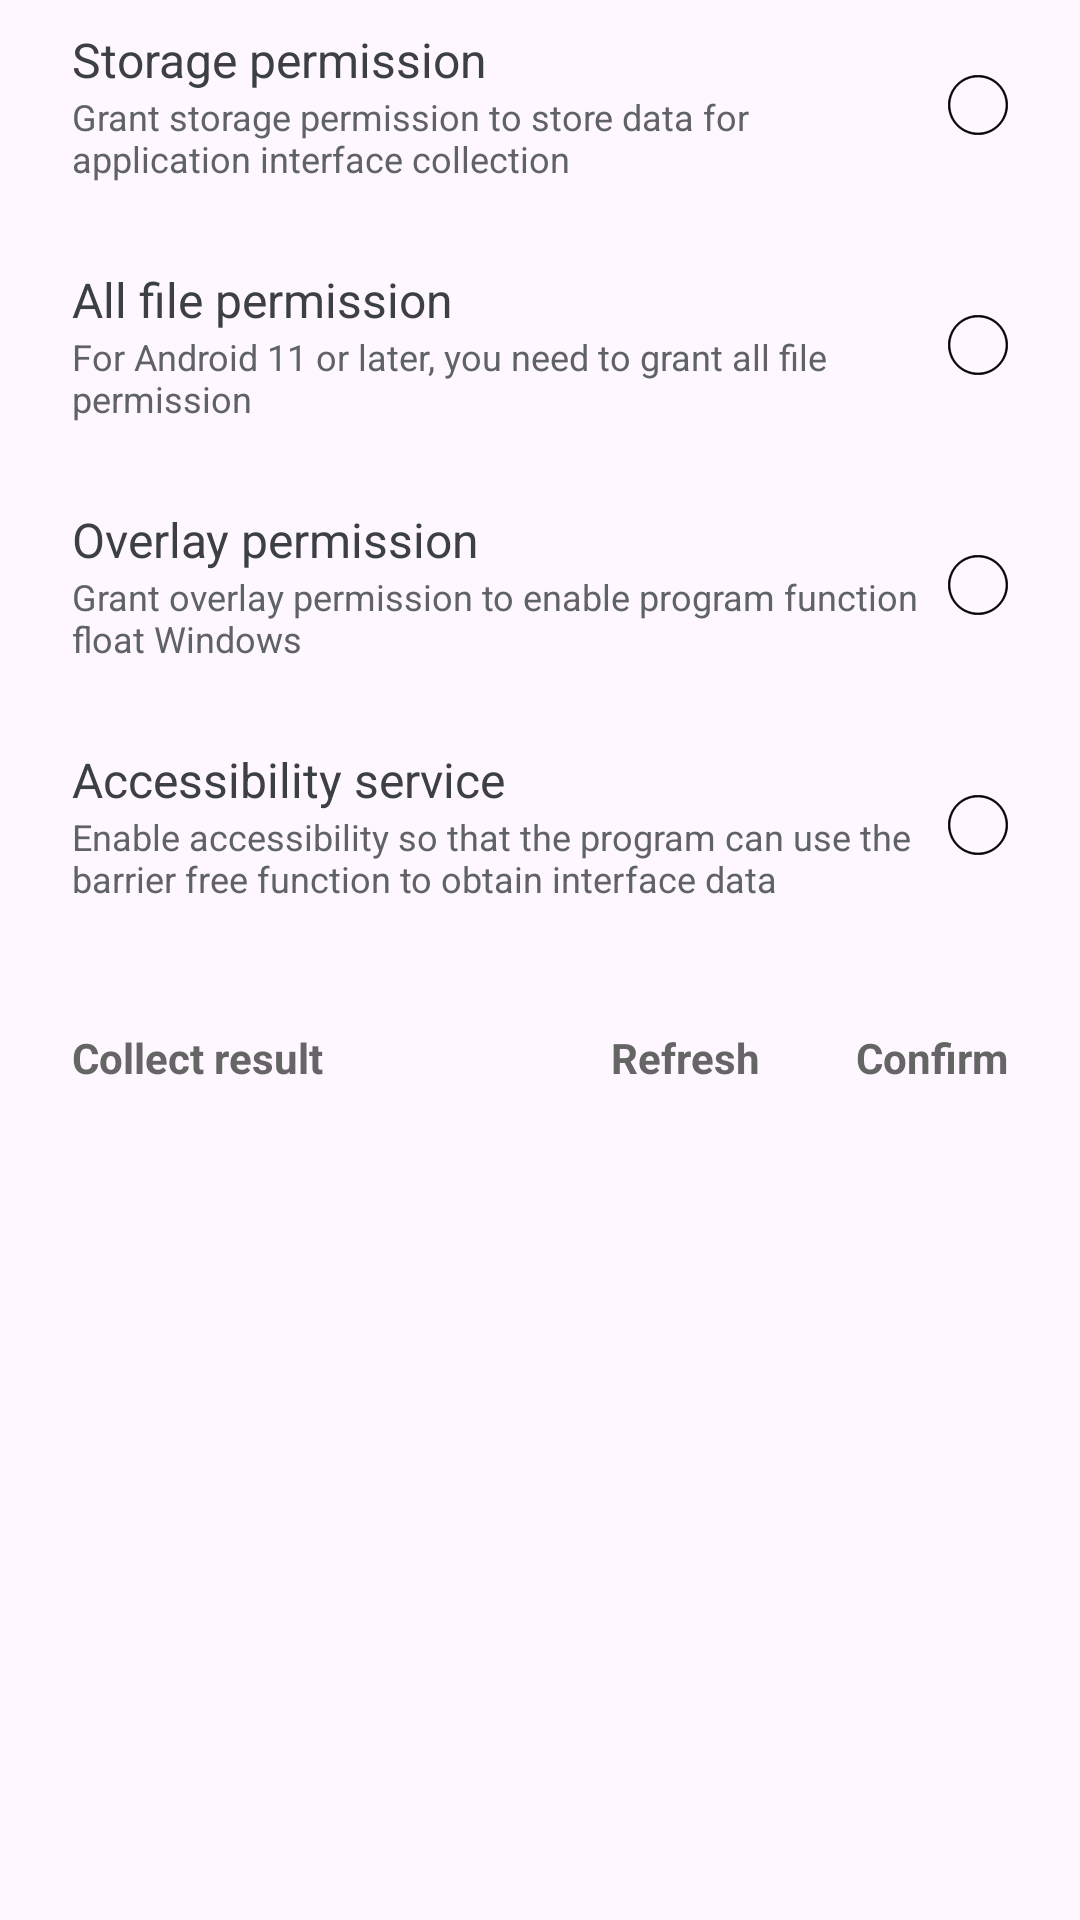

Named icons in this screenshot (1080×1920) and their bounding boxes, (x1, y1, x2, y2):
check permission no: (948, 75, 1008, 135), (948, 315, 1008, 375), (948, 555, 1008, 615), (948, 795, 1008, 855)
